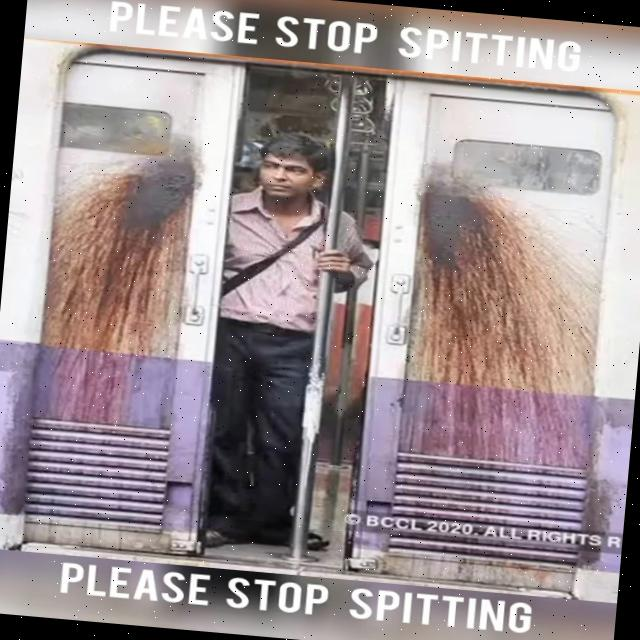spit: (406, 157, 625, 506)
